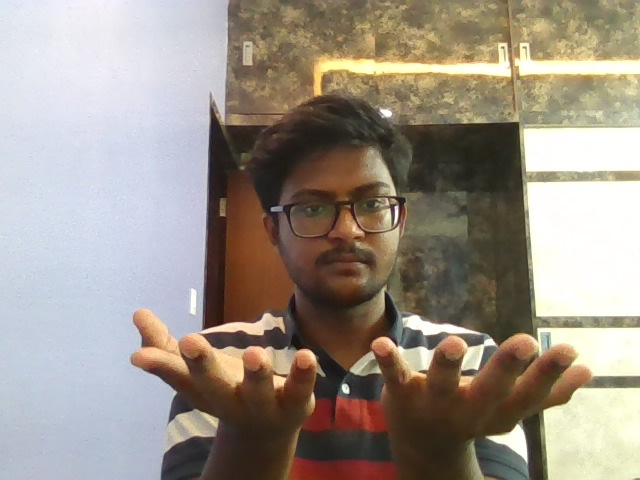what: (109, 297, 597, 471)
